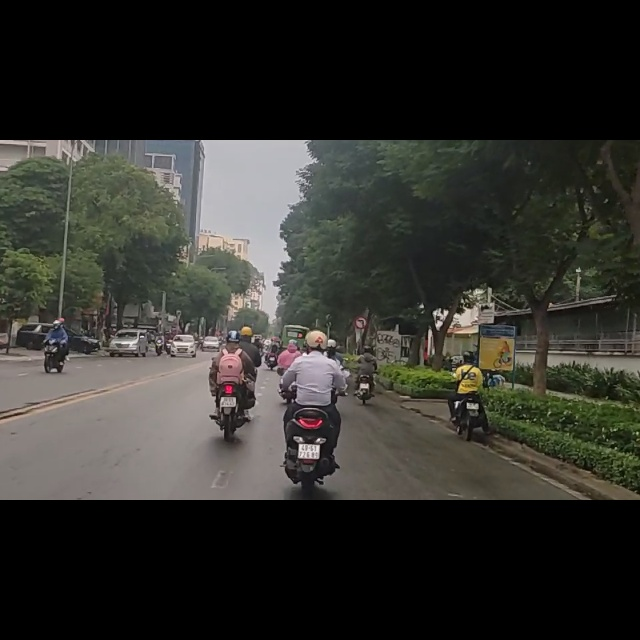Cấm rẽ trái: (355, 316, 367, 329)
